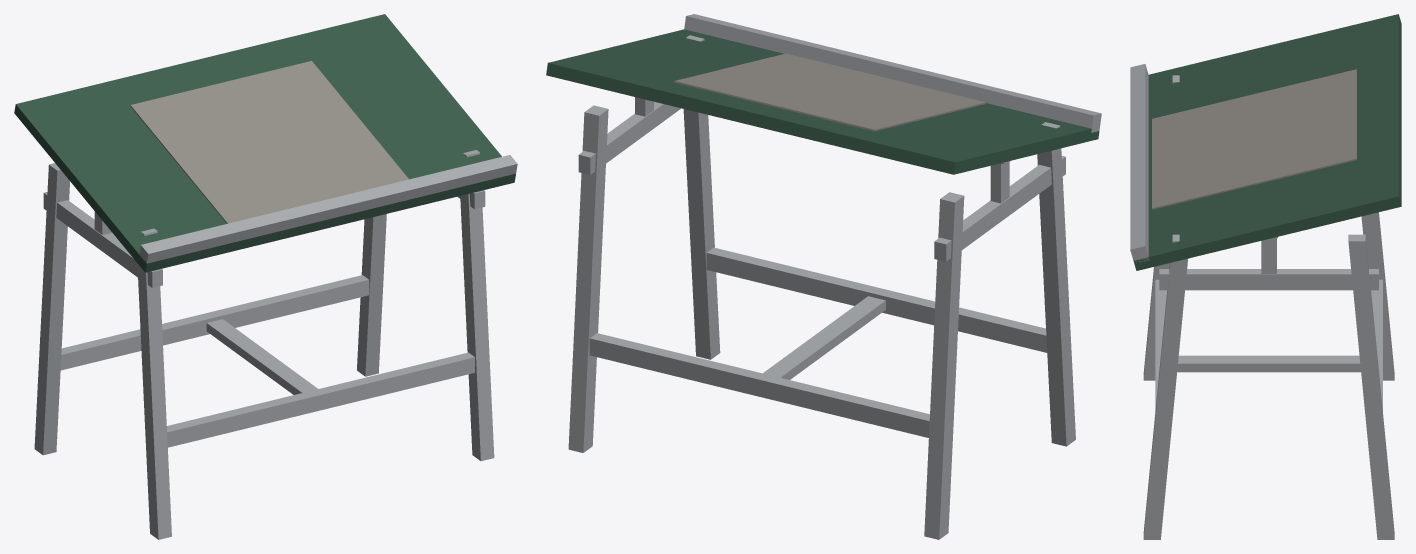
File: FN_Table_Drafting.glb
3 renders of one model, left to right at view 1: azimuth 30°, elevation 25°; view 2: azimuth 150°, elevation 25°; view 3: azimuth 270°, elevation 25°, orthographic. The views are drawn at different scales.
Visible parts, largest first — view 1: FN_Table_Drafting; view 2: FN_Table_Drafting; view 3: FN_Table_Drafting.
Part boxes in pixels (x1,y1,x2,y2): FN_Table_Drafting: (14,14,517,539); FN_Table_Drafting: (546,14,1101,539); FN_Table_Drafting: (1130,14,1401,539).
Bounding box in the file's own units: 1.1 × 0.9896 × 0.6922.
Materials: 1 (1 with a texture image).
